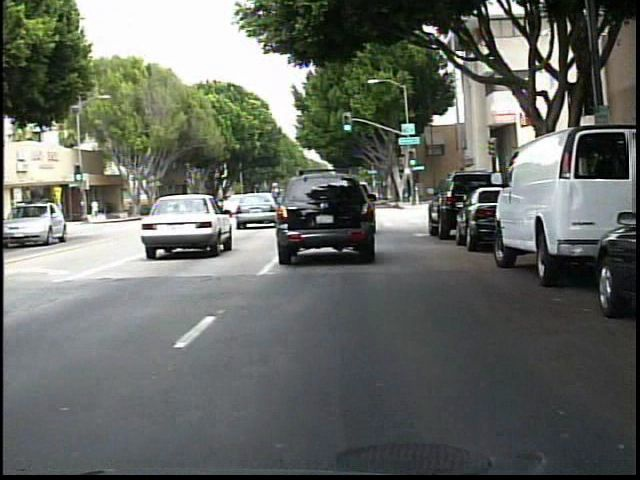person: (90, 198, 102, 221)
